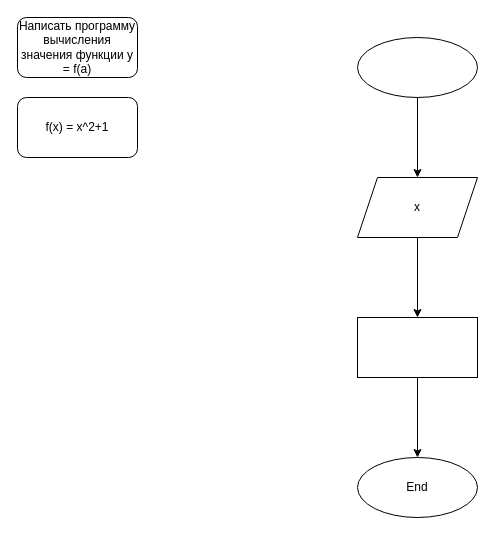
This 495x535 diagram has some shape labels left out. Each missing label, with the centre of its shape:
"Start" belongs at (x=417, y=67).
"x = x * x + 1" belongs at (x=417, y=347).
